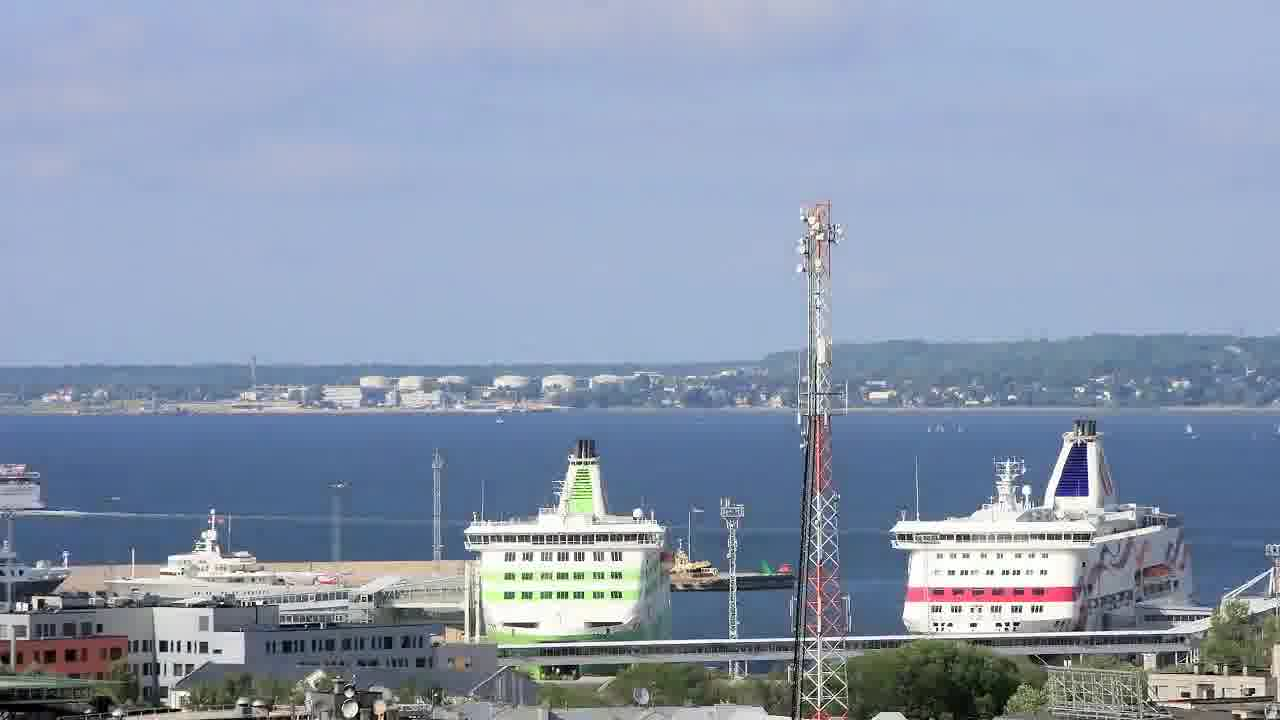type-3: (868, 415, 1225, 638), (436, 434, 694, 670), (66, 517, 349, 609), (0, 401, 52, 521)
